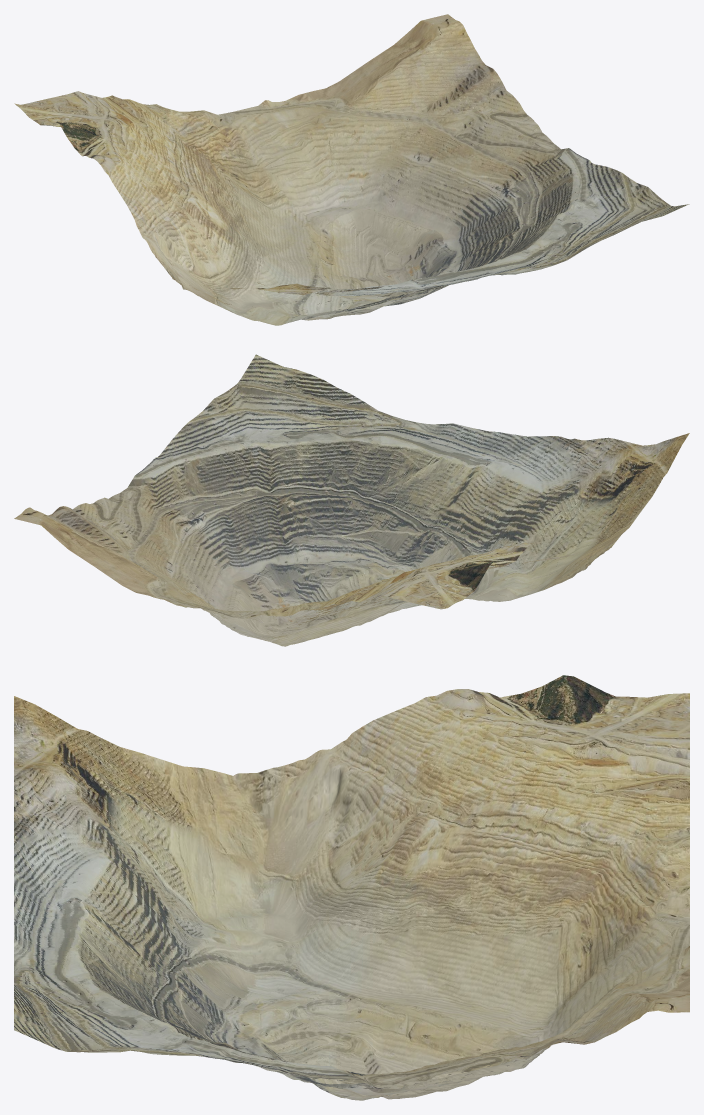
3 views of the same model, one above another, from view 1: azimuth 30°, elevation 25°; view 2: azimuth 150°, elevation 25°; view 3: azimuth 270°, elevation 25° (orthographic). The views are drawn at different scales.
Visible parts, largest first — view 1: lod0; view 2: lod0; view 3: lod0.
Part boxes in pixels (x1,y1,x2,y2): lod0: (14, 14, 689, 325); lod0: (14, 354, 689, 646); lod0: (14, 675, 689, 1100).
Bounding box in the file's own units: 2899 × 1102 × 2799.
1 material, 1 textured.
